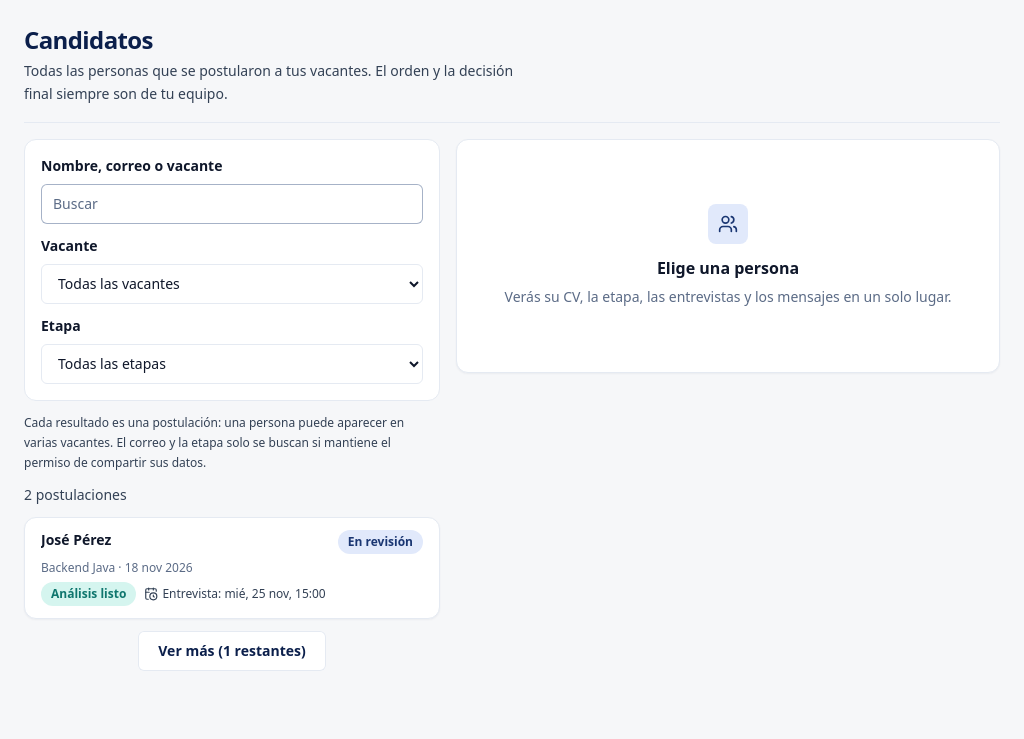
Test: CandidatesPage › conserva los resultados si falla la página siguiente y ofrece reintentar
Click the button "Ver más (1 restantes)" at (232, 650), box [138, 630, 326, 670]
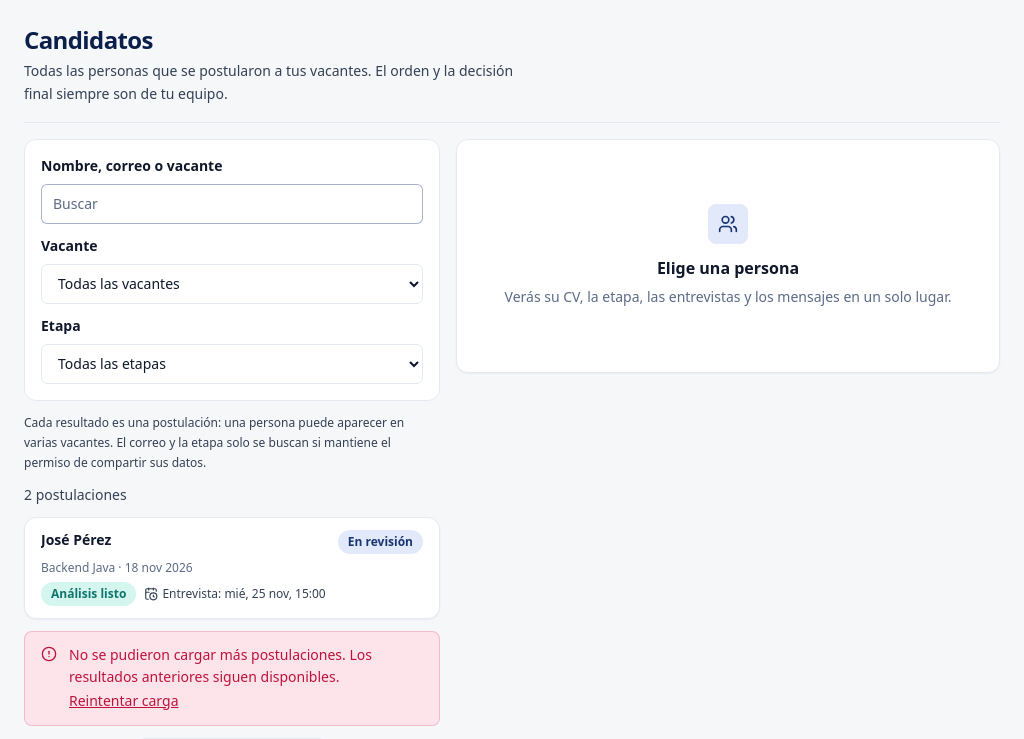
Expected: the text "José Pérez" is shown, [41, 530, 111, 548]
Result: the 2nd message shows "Los resultados anteriores siguen disponibles" at [69, 644, 372, 686]
Click the button "Reintentar carga" at (124, 701), box [69, 689, 178, 713]
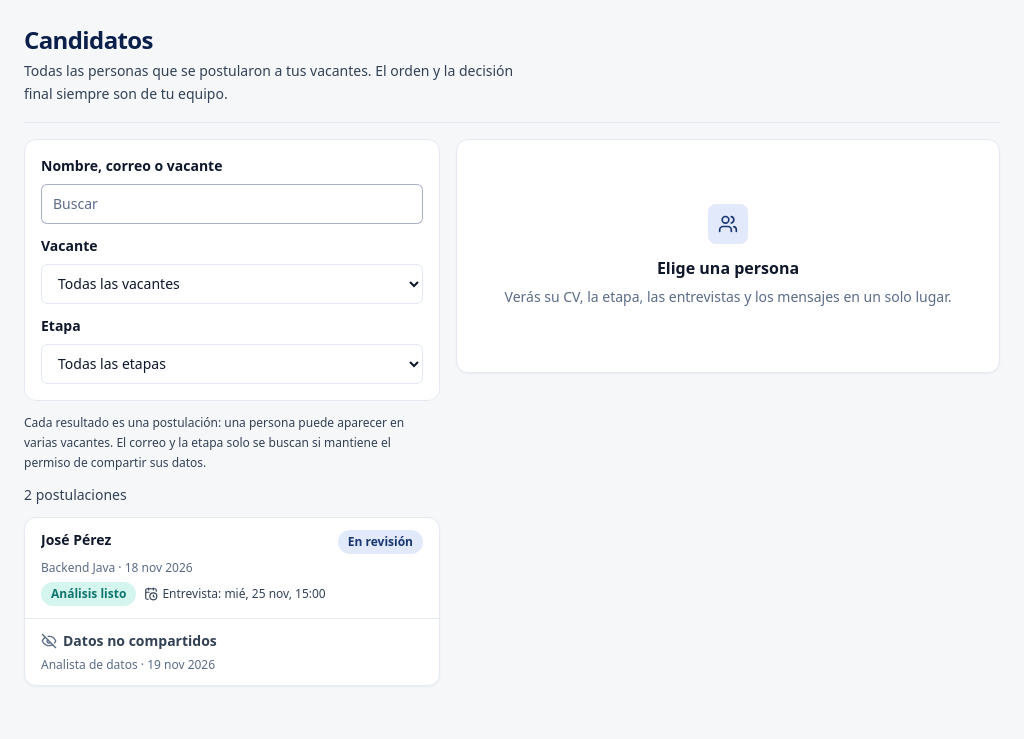
Result: the text "Datos no compartidos" is shown at [41, 630, 217, 650]
Result: the number of list items is 2 at [25, 518, 439, 618]; [41, 630, 217, 672]
